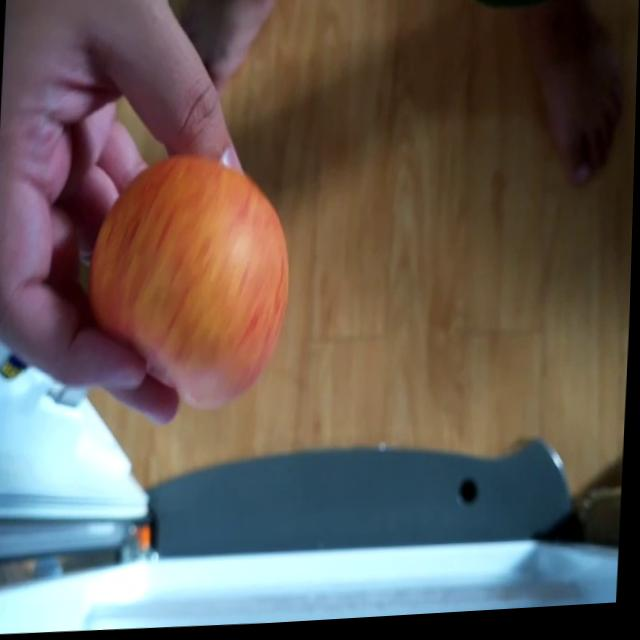apple: (80, 152, 294, 414)
